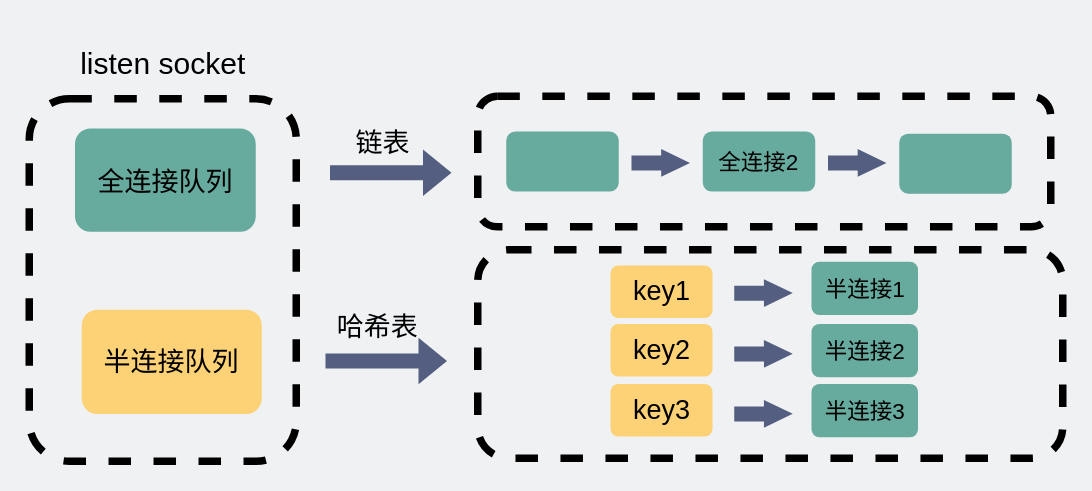
The diagram is 1092 pixels wide and 491 high, and some of its shapes have lost their labels. Each missing label, with the centre of its shape:
全连接1: (x=562, y=161)
全连接3: (x=954, y=163)
